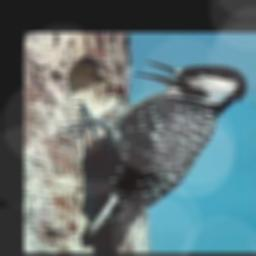Woodpecker: (56, 56, 256, 251)
